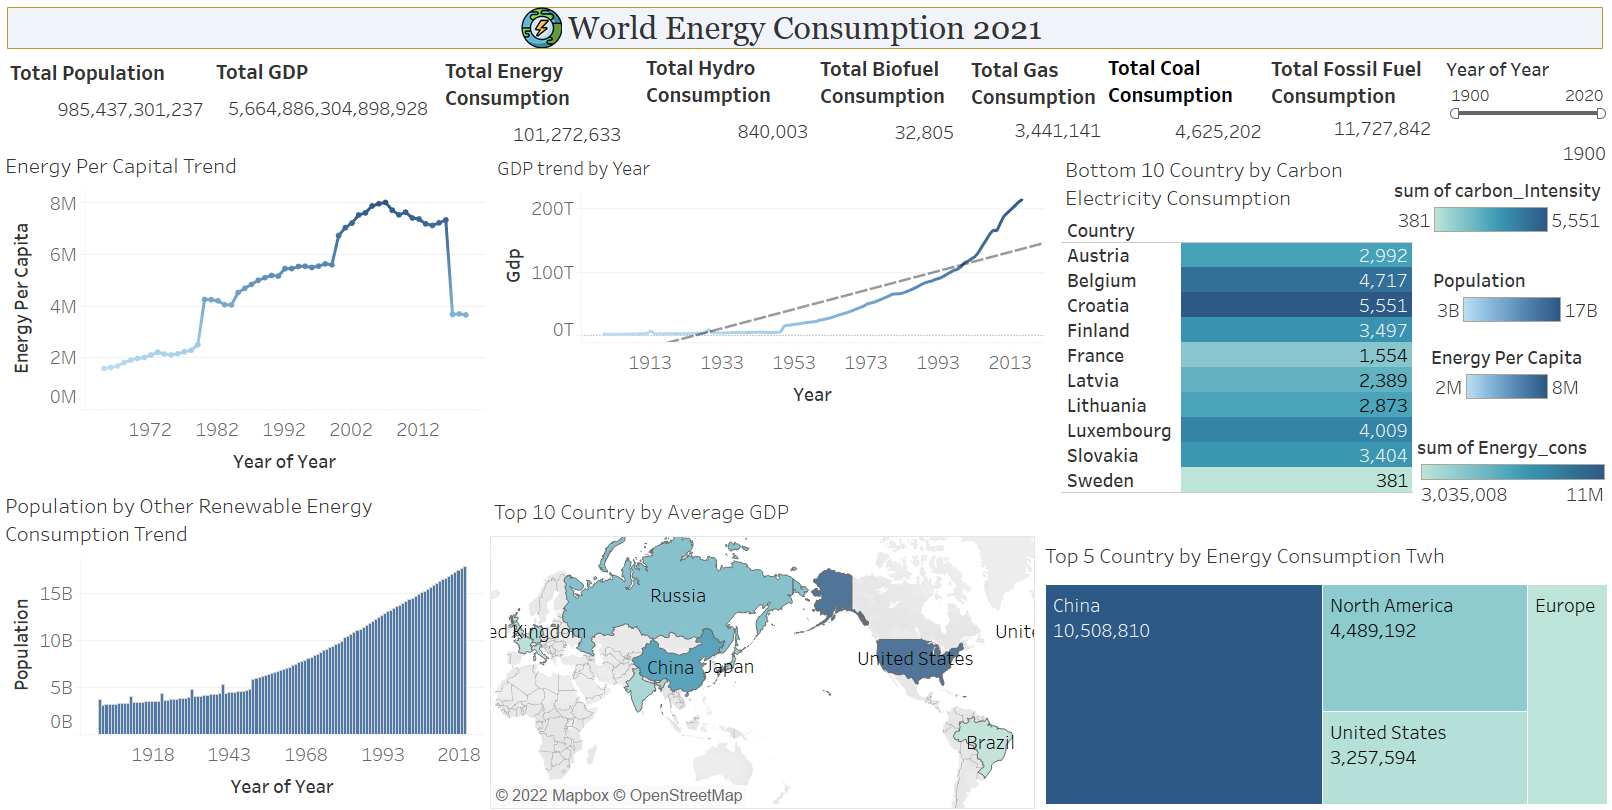

What the dashboard file says about the page in this screenshot:
{"tool":"tableau","page":{"name":"Dashboard 1","canvas":[1000,1000],"units":"permille","ordinal":0},"visuals":[{"type":"title","box":[5,9.8,990,61.1]},{"type":"image","param":"Image/energy.png","box":[325.3,13.4,40.7,50.1]},{"type":"worksheet","title":"Sheet 10","mark":"Automatic","box":[506.5,77.3,87.2,116.7]},{"type":"worksheet","title":"Sheet 13","mark":"Automatic","box":[600.3,80.3,85,107.6]},{"type":"worksheet","title":"Sheet 11","mark":"Automatic","box":[684.6,80.3,99.6,121.2]},{"type":"worksheet","title":"Sheet 12","mark":"Automatic","box":[784.9,80.3,103.9,107.6]},{"type":"worksheet","title":"Sheet 18","mark":"Automatic","box":[275.4,81.8,114.1,119.7]},{"type":"worksheet","title":"Sheet 14","mark":"Automatic","box":[398.8,81.8,105.6,130.7]},{"type":"filter","title":"Sheet 19","param":"[federated.1usqjib0mkc3fy151hsym08kx0p9].[tyr:year:qk]","box":[896.1,81.8,101,84.9]},{"type":"worksheet","title":"Sheet 9","mark":"Automatic","box":[11.6,83.3,124.3,87.9]},{"type":"worksheet","title":"Sheet 8","mark":"Automatic","box":[138.8,84.9,147.5,86.4]},{"type":"worksheet","title":"Sheet 19","mark":"Automatic","box":[903.2,158.9,93.7,57.5]},{"type":"worksheet","title":"Sheet 4","mark":"Automatic","rows":["energy_per_capita"],"cols":["year"],"box":[3.7,185.8,298.6,407.1]},{"type":"worksheet","title":"Sheet 16","mark":"Square","rows":["country"],"box":[658,190.7,217.3,471.9]},{"type":"worksheet","title":"Sheet 5","mark":"Line","rows":["gdp"],"cols":["year"],"box":[307.4,220.1,340.4,380.2]},{"type":"legend","title":"Sheet 16","param":"[federated.1usqjib0mkc3fy151hsym08kx0p9].[usr:Calculation_1144758744246554625:qk","box":[863.6,222.2,130.2,76.9]},{"type":"legend","title":"Sheet 5","param":"[federated.1usqjib0mkc3fy151hsym08kx0p9].[sum:population:qk]","box":[887.6,332.1,104.9,81.8]},{"type":"legend","title":"Sheet 4","param":"[federated.1usqjib0mkc3fy151hsym08kx0p9].[sum:energy_per_capita:qk]","box":[886.4,426.7,94.4,88]},{"type":"legend","title":"Sheet 17","param":"[federated.1usqjib0mkc3fy151hsym08kx0p9].[usr:Calculation_1144758744275521543:qk","box":[877.7,535.5,118.6,83.1]},{"type":"worksheet","title":"Sheet 7","mark":"Bar","rows":["population"],"cols":["year"],"box":[3.7,600.2,297.9,388.8]},{"type":"worksheet","title":"Sheet 15","mark":"Automatic","box":[305.4,607.6,336.4,386.3]},{"type":"worksheet","title":"Sheet 17","mark":"Automatic","box":[645.6,661.4,352,332.5]}]}

Visuals, with their boxes on the dashboard's canvas, which has no fixed pixel size, in thousandths of its width and height (x1, y1, x2, y2). These are canvas units, not pixel positions in the 1612x810 screenshot, which may show the page scaled, cropped or inside an application window:
title: bbox(5, 10, 995, 71)
image: bbox(325, 13, 366, 64)
"Sheet 10" worksheet: bbox(506, 77, 594, 194)
"Sheet 13" worksheet: bbox(600, 80, 685, 188)
"Sheet 11" worksheet: bbox(685, 80, 784, 202)
"Sheet 12" worksheet: bbox(785, 80, 889, 188)
"Sheet 18" worksheet: bbox(275, 82, 390, 202)
"Sheet 14" worksheet: bbox(399, 82, 504, 212)
"Sheet 19" filter: bbox(896, 82, 997, 167)
"Sheet 9" worksheet: bbox(12, 83, 136, 171)
"Sheet 8" worksheet: bbox(139, 85, 286, 171)
"Sheet 19" worksheet: bbox(903, 159, 997, 216)
"Sheet 4" worksheet: bbox(4, 186, 302, 593)
"Sheet 16" worksheet (Square marks): bbox(658, 191, 875, 663)
"Sheet 5" worksheet (Line marks): bbox(307, 220, 648, 600)
"Sheet 16" legend: bbox(864, 222, 994, 299)
"Sheet 5" legend: bbox(888, 332, 992, 414)
"Sheet 4" legend: bbox(886, 427, 981, 515)
"Sheet 17" legend: bbox(878, 536, 996, 619)
"Sheet 7" worksheet (Bar marks): bbox(4, 600, 302, 989)
"Sheet 15" worksheet: bbox(305, 608, 642, 994)
"Sheet 17" worksheet: bbox(646, 661, 998, 994)
